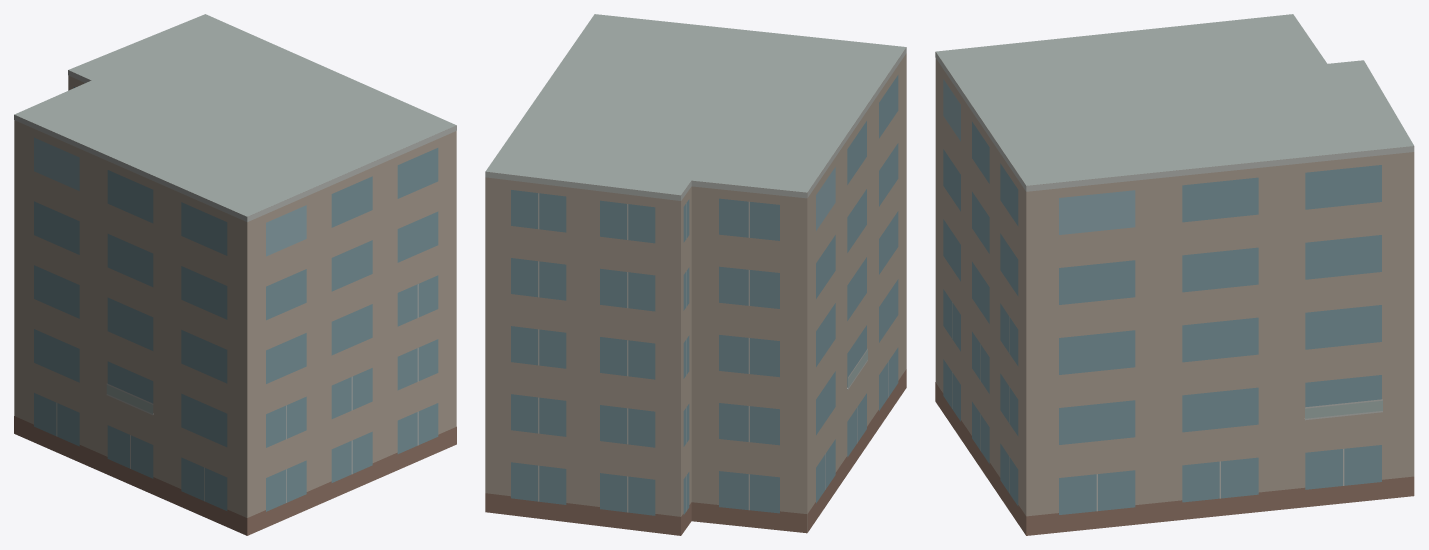
Rendered from survey-upis-32813387.glb.
3 views of the same model, side by side, from view 1: azimuth 30°, elevation 25°; view 2: azimuth 150°, elevation 25°; view 3: azimuth 270°, elevation 25° (orthographic). The views are drawn at different scales.
Visible parts, largest first — view 1: survey-upis-32813387.tmp; view 2: survey-upis-32813387.tmp; view 3: survey-upis-32813387.tmp.
Boxes of the visible parts, x1=… form: survey-upis-32813387.tmp: x1=14, y1=14, x2=456, y2=535; survey-upis-32813387.tmp: x1=485, y1=14, x2=906, y2=535; survey-upis-32813387.tmp: x1=935, y1=14, x2=1414, y2=535.
Bounding box in the file's own units: 15.12 × 14.35 × 17.8.
